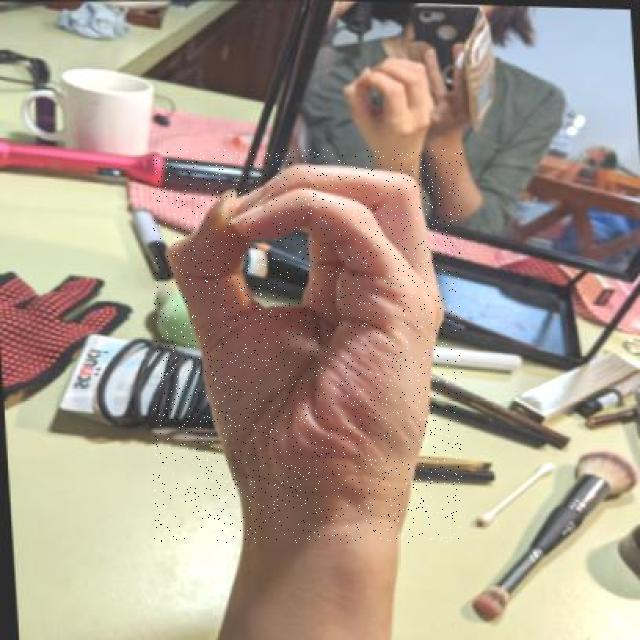O: (153, 149, 462, 543)
